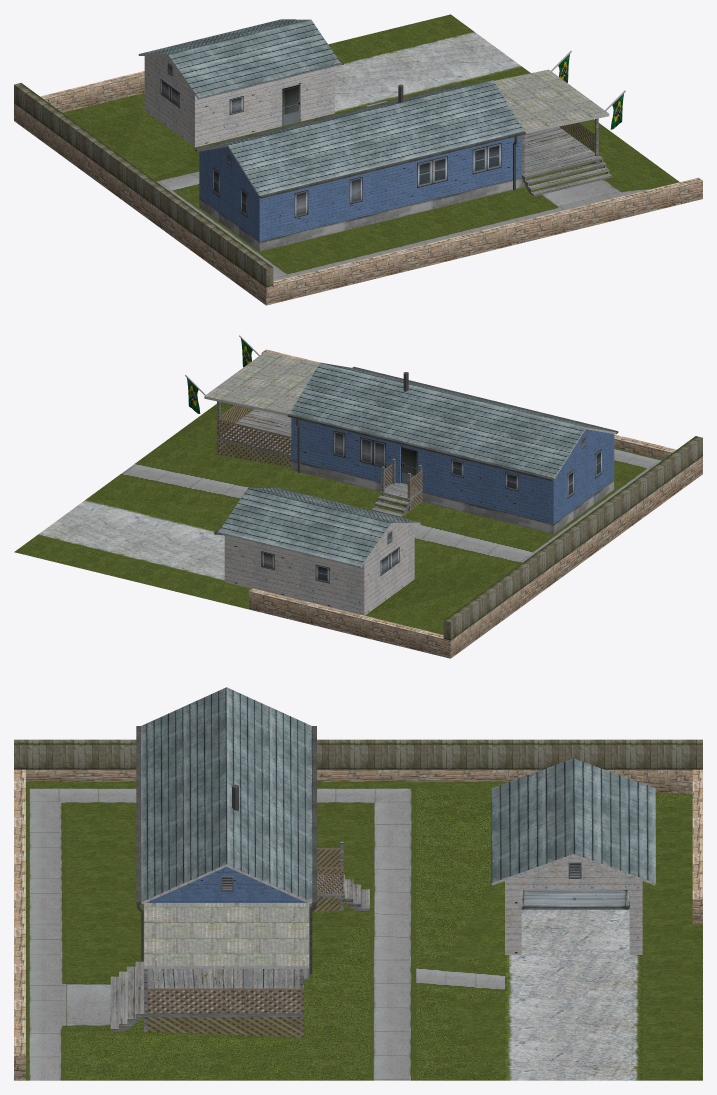
Rendered from sw_woodhaus04.obj.
3 views of the same model, one above another, from view 1: azimuth 30°, elevation 25°; view 2: azimuth 150°, elevation 25°; view 3: azimuth 270°, elevation 25° (orthographic). The views are drawn at different scales.
Parts seen in each view (by area): view 1: sw_woodhaus04; view 2: sw_woodhaus04; view 3: sw_woodhaus04.
Boxes of the visible parts, x1,y1,x2,y2 form: sw_woodhaus04: [14, 14, 702, 305]; sw_woodhaus04: [14, 335, 702, 658]; sw_woodhaus04: [14, 687, 702, 1080].
Size of the model in its own units: 25 by 5.89 by 25.
18 materials, 18 textured.
